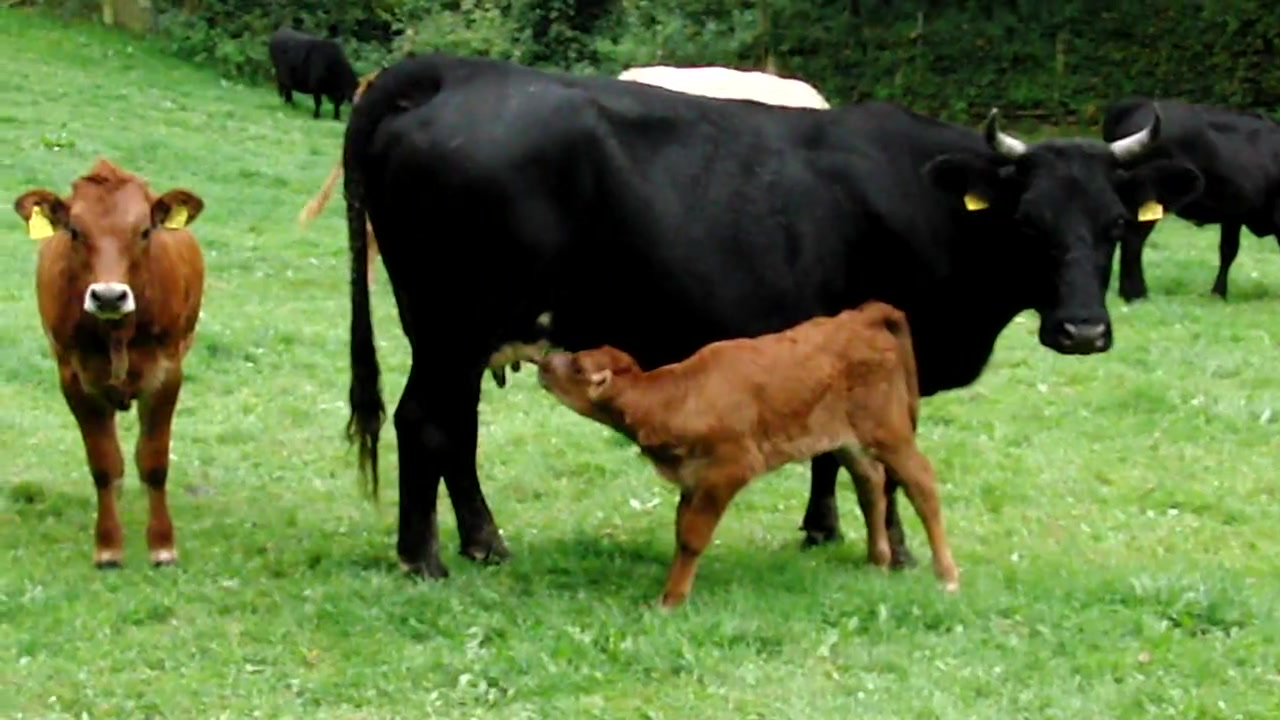cow: (540, 301, 962, 616)
